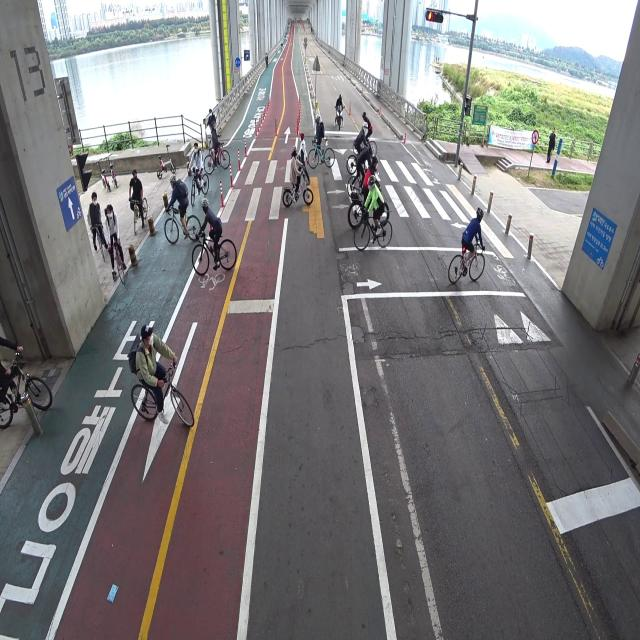Motorcycle: (332, 91, 345, 131)
